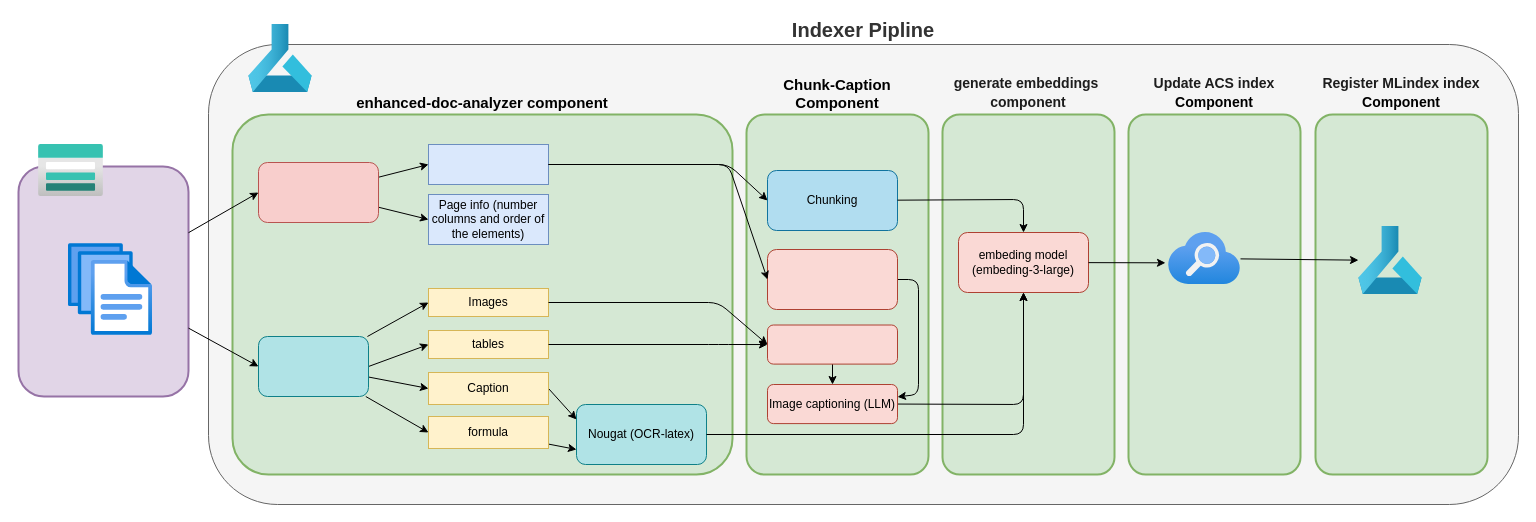
This 1536x522 diagram has some shape labels left out. The shapes that lost their labels are listed below. From the top down, each one's centre as x and y in pixels, then its label:
At (70,170): "Storage".
At (488,164): "Text (paragraphs)".
At (318,192): "Azure Document inteligent".
At (110,289): "PDFs".
At (832,279): "Summerization".
At (832,344): "Classification (LLM)".
At (313,366): "DETR (layout detection)".
